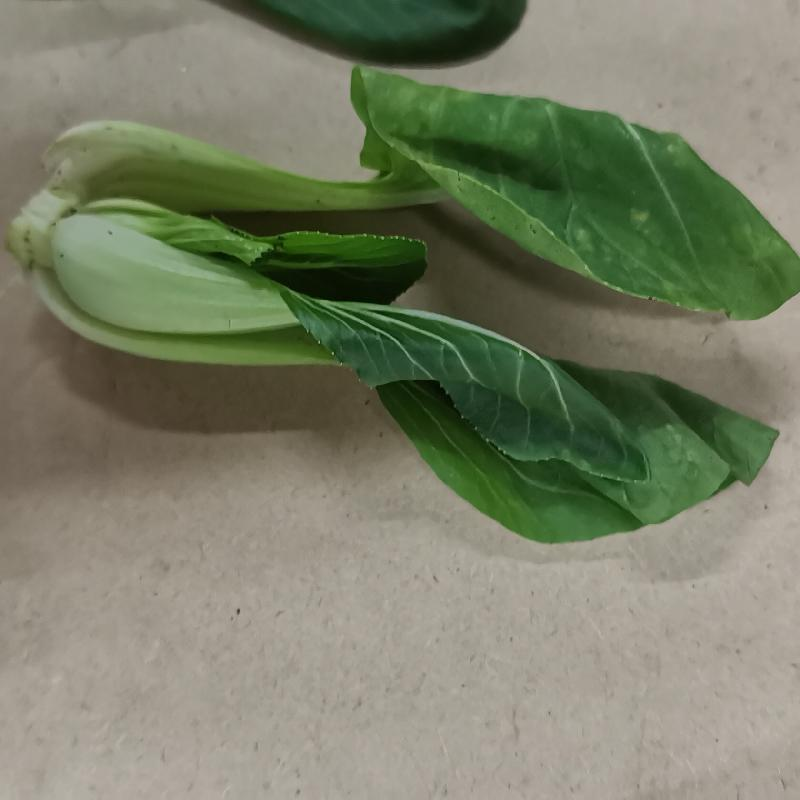green vegatable: (3, 66, 799, 547)
